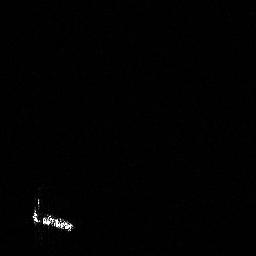ship: (28, 194, 77, 234)
